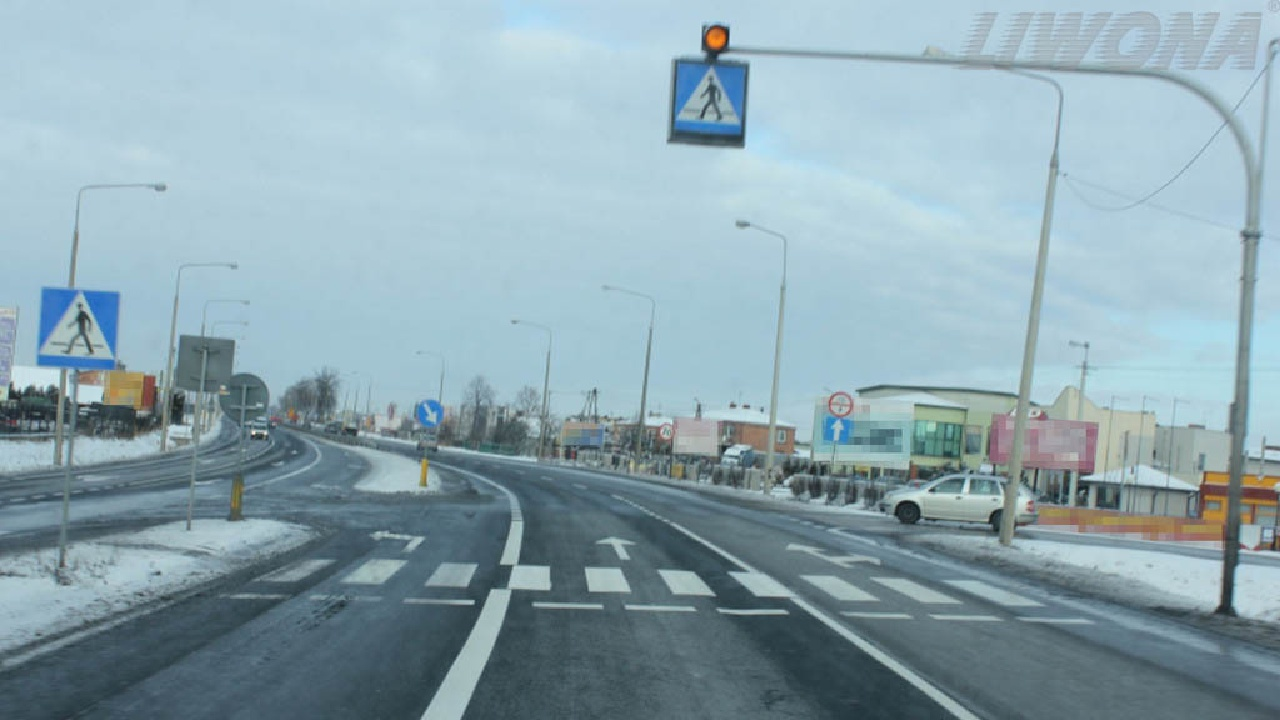C9: (417, 399, 443, 427)
D3: (822, 416, 851, 444)
D6: (39, 284, 119, 370), (672, 57, 747, 140)
